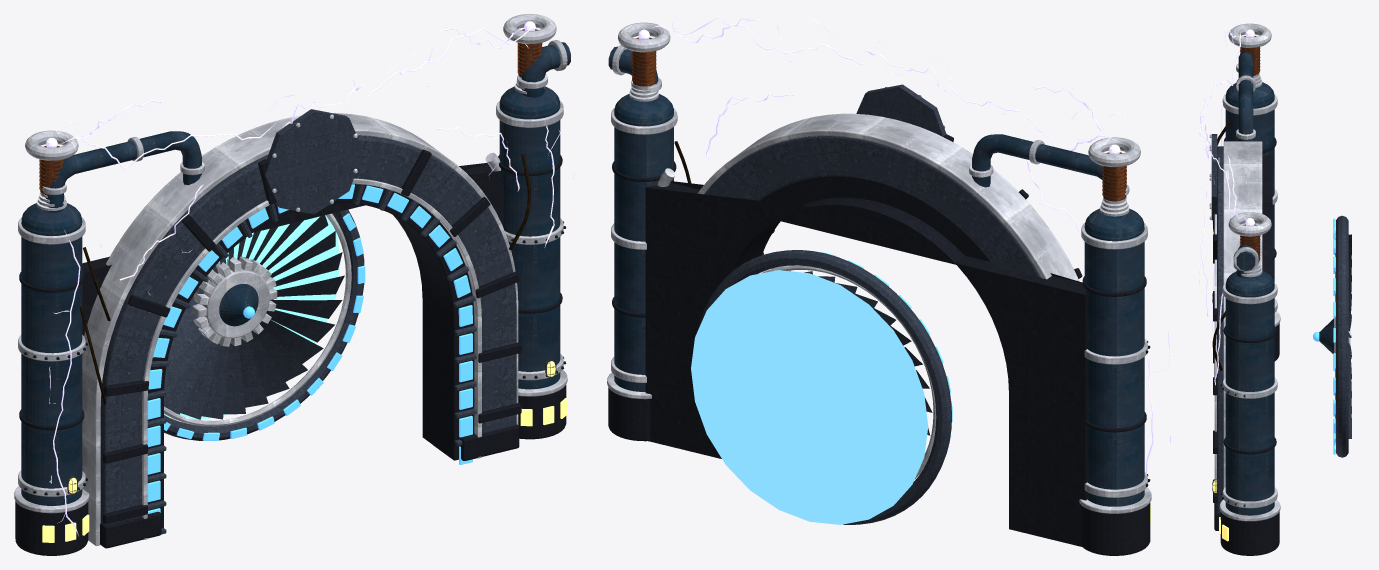
The model's file is fachada_05.glb.
3 renders of one model, left to right at view 1: azimuth 30°, elevation 25°; view 2: azimuth 150°, elevation 25°; view 3: azimuth 270°, elevation 25°, orthographic. The views are drawn at different scales.
Visible parts, largest first — view 1: F05_anel, F05_tur_pas, F05_tanque-1, F05_labio, F05_tanque1, F05_banda_int, F05_placa_med, F05_painel_luz, F05_junta, F05_fundo, F05_labio_int, F05_tur_brilho (+21 smaller); view 2: F05_fundo, F05_tur_brilho, F05_tanque-1, F05_anel, F05_labio, F05_tanque1, F05_tur_aro, F05_banda_int, F05_base-1, F05_cano_e, F05_placa_med, F05_raios (+9 smaller); view 3: F05_tanque1, F05_labio, F05_tur_aro, F05_anel, F05_base1, F05_tanque-1, F05_raios, F05_cano_e, F05_fundo, F05_cupula1, F05_toroide1, F05_toroide-1 (+16 smaller).
Boxes of the visible parts, <box> form: F05_anel: <box>100,135,516,525</box>; F05_tur_pas: <box>164,215,344,419</box>; F05_tanque-1: <box>21,221,82,505</box>; F05_labio: <box>82,113,518,545</box>; F05_tanque1: <box>499,104,560,389</box>; F05_banda_int: <box>147,184,474,527</box>; F05_placa_med: <box>265,109,363,214</box>; F05_painel_luz: <box>147,184,472,513</box>; F05_junta: <box>103,149,521,524</box>; F05_fundo: <box>82,163,501,444</box>; F05_labio_int: <box>142,178,481,539</box>; F05_tur_brilho: <box>164,215,340,419</box>; F05_fundo: <box>645,181,1087,546</box>; F05_tur_brilho: <box>691,270,928,524</box>; F05_tanque-1: <box>1084,226,1144,506</box>; F05_anel: <box>704,136,1040,277</box>; F05_labio: <box>697,113,1079,281</box>; F05_tanque1: <box>614,112,673,391</box>; F05_tur_aro: <box>697,250,951,524</box>; F05_banda_int: <box>742,176,990,263</box>; F05_base-1: <box>1081,502,1150,555</box>; F05_cano_e: <box>972,134,1126,198</box>; F05_placa_med: <box>856,84,946,136</box>; F05_raios: <box>652,15,1170,473</box>; F05_tanque1: <box>1225,285,1274,515</box>; F05_labio: <box>1223,141,1262,488</box>; F05_tur_aro: <box>1336,215,1348,457</box>; F05_anel: <box>1217,146,1223,512</box>; F05_base1: <box>1220,512,1279,555</box>; F05_tanque-1: <box>1225,97,1274,281</box>; F05_raios: <box>1199,14,1240,385</box>; F05_cano_e: <box>1238,51,1253,141</box>; F05_fundo: <box>1262,154,1272,277</box>; F05_cupula1: <box>1225,270,1274,294</box>; F05_toroide1: <box>1228,212,1271,236</box>; F05_toroide-1: <box>1228,23,1271,47</box>.
Bounding box in the file's own units: 12.4 × 9.51 × 4.05.
Materials: 11 (7 with a texture image).
